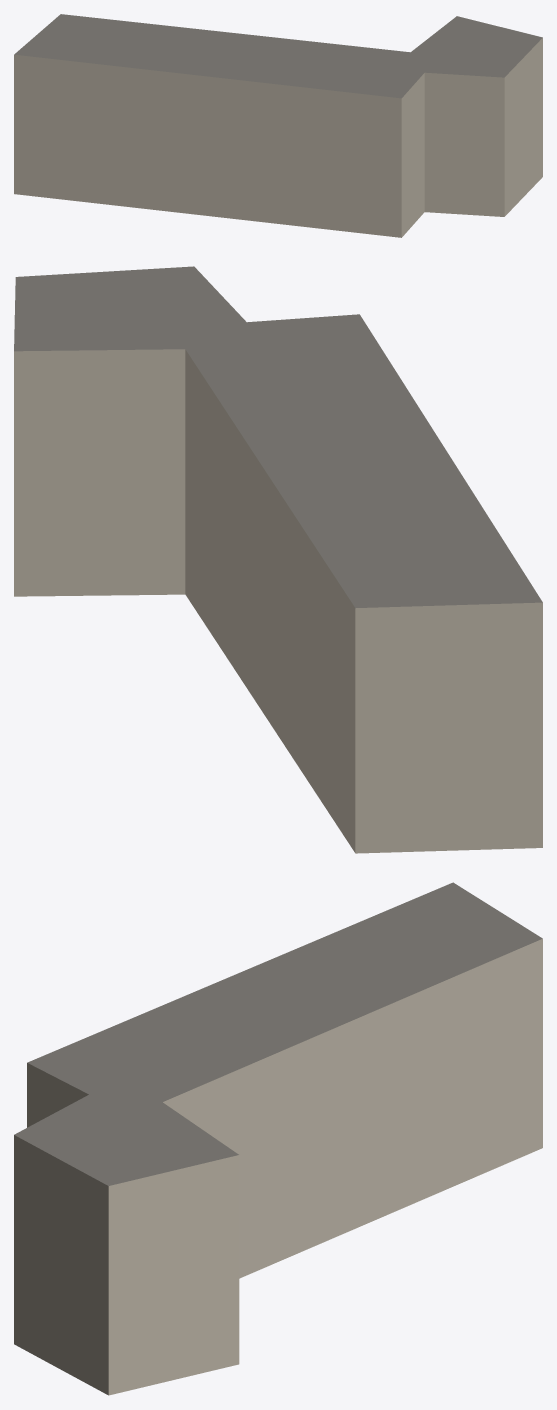
The picture shows the model from 3 angles, top to bottom: view 1: azimuth 30°, elevation 25°; view 2: azimuth 150°, elevation 25°; view 3: azimuth 270°, elevation 25°; orthographic projection. The views are drawn at different scales.
Parts seen in each view (by area): view 1: HP-w505633432; view 2: HP-w505633432; view 3: HP-w505633432.
Part boxes in pixels (x1,y1,x2,y2): HP-w505633432: (14,14,542,237); HP-w505633432: (14,266,542,853); HP-w505633432: (14,882,542,1395).
Bounding box in the file's own units: 55.97 × 18 × 41.2.
